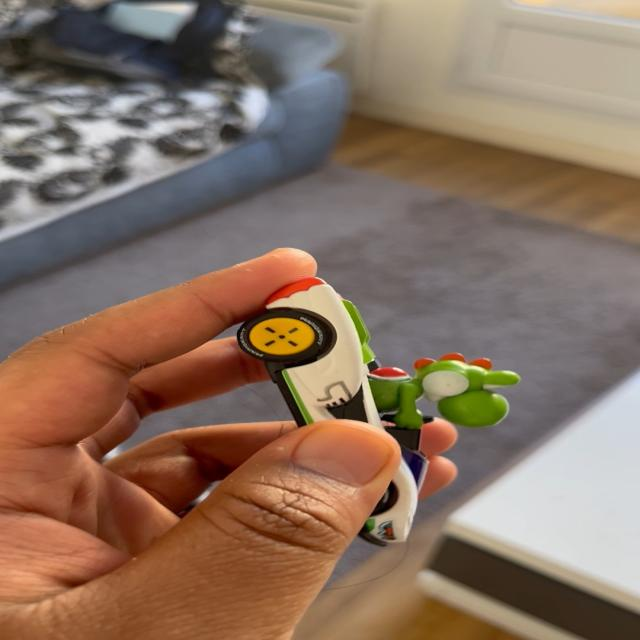yoshi: (240, 274, 539, 563)
